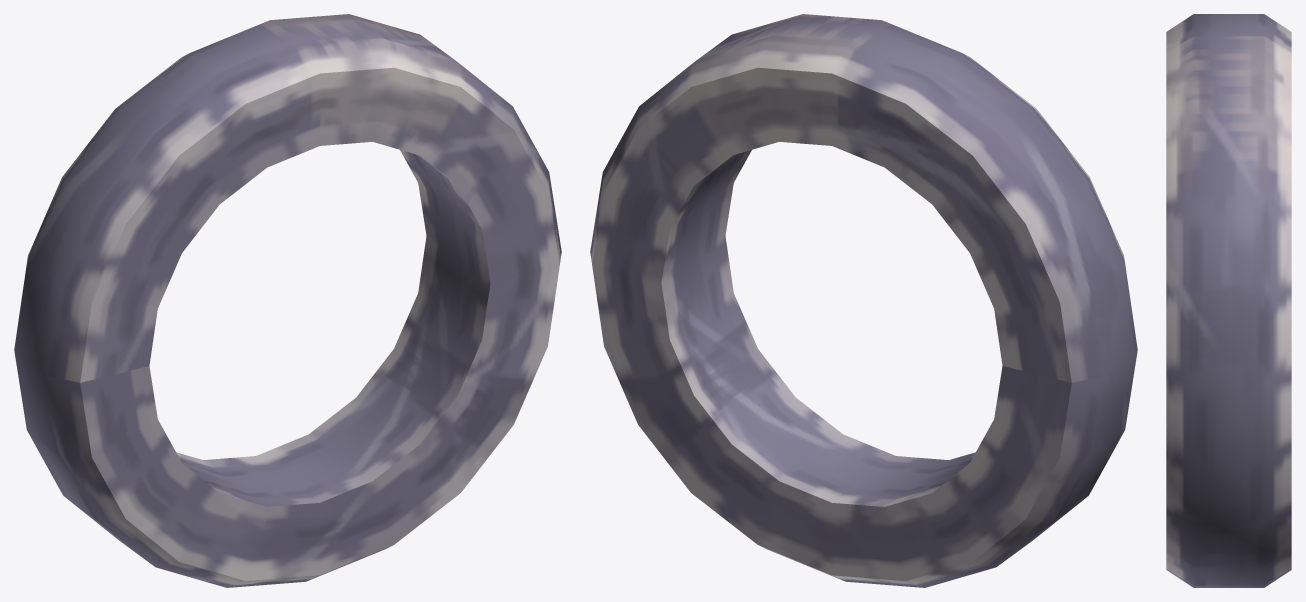
File: knife_ring.fbx
3 renders of one model, left to right at view 1: azimuth 30°, elevation 25°; view 2: azimuth 150°, elevation 25°; view 3: azimuth 270°, elevation 25°, orthographic. The views are drawn at different scales.
Visible parts, largest first — view 1: knife_ring; view 2: knife_ring; view 3: knife_ring.
Part boxes in pixels (x1,y1,x2,y2): knife_ring: [14, 14, 561, 587]; knife_ring: [590, 14, 1137, 587]; knife_ring: [1166, 14, 1291, 587].
Bounding box in the file's own units: 0.144 × 0.144 × 0.0312.
